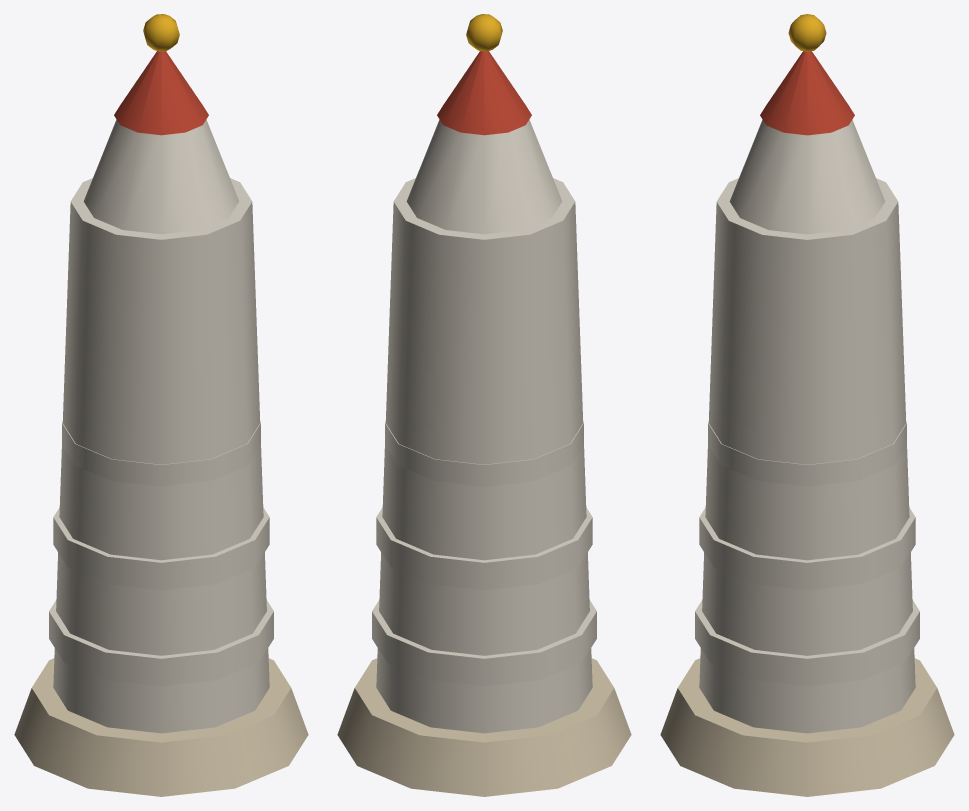
Rendered from dharahara.glb.
The picture shows the model from 3 angles, left to right: view 1: azimuth 30°, elevation 25°; view 2: azimuth 150°, elevation 25°; view 3: azimuth 270°, elevation 25°; orthographic projection.
Size of the model in its own units: 3.4 by 9.17 by 3.4.
